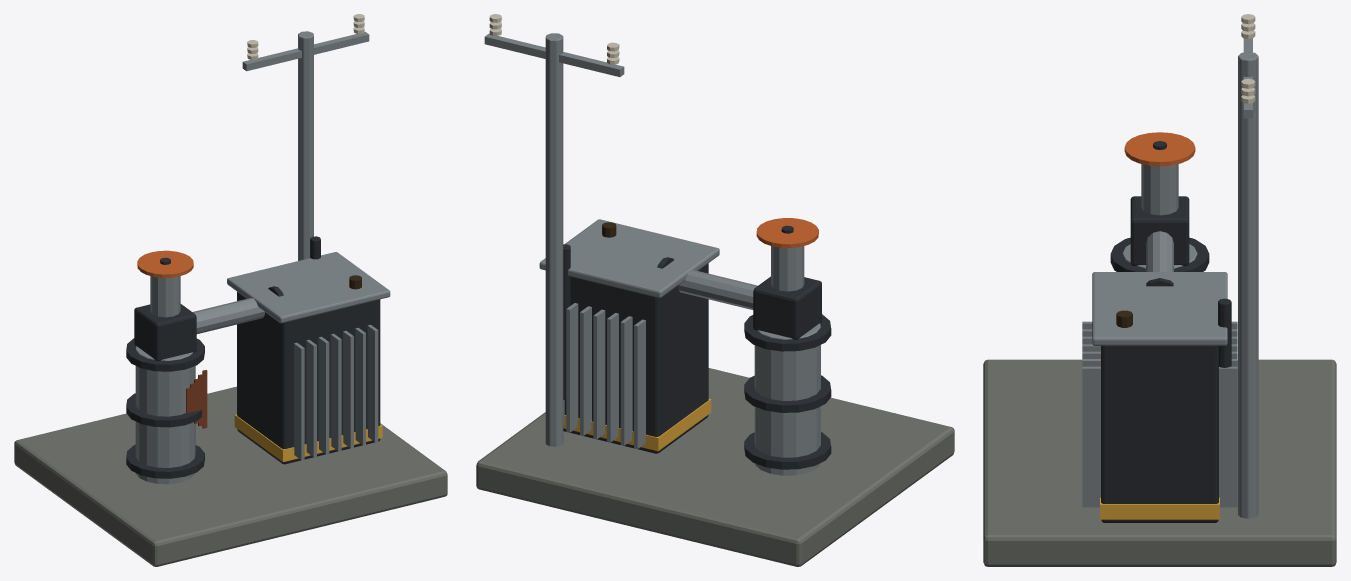
The model's file is prop_wellhead.glb.
The picture shows the model from 3 angles, left to right: view 1: azimuth 30°, elevation 25°; view 2: azimuth 150°, elevation 25°; view 3: azimuth 270°, elevation 25°; orthographic projection. The views are drawn at different scales.
Parts seen in each view (by area): view 1: Wellhead_mesh, Wheel_mesh; view 2: Wellhead_mesh, Wheel_mesh; view 3: Wellhead_mesh, Wheel_mesh.
Part boxes in pixels (x1=…): Wellhead_mesh: x1=14, y1=14, x2=447, y2=566; Wheel_mesh: x1=137, y1=250, x2=193, y2=277; Wellhead_mesh: x1=476, y1=14, x2=954, y2=566; Wheel_mesh: x1=756, y1=218, x2=818, y2=247; Wellhead_mesh: x1=983, y1=14, x2=1336, y2=566; Wheel_mesh: x1=1124, y1=132, x2=1195, y2=166.
Bounding box in the file's own units: 3.9 × 4.66 × 3.
